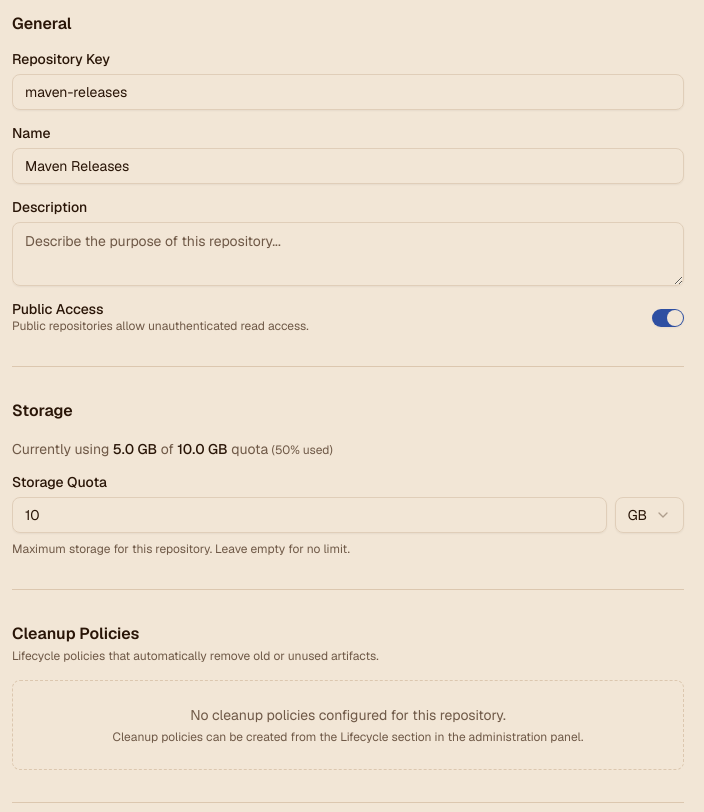
RepoSettingsTab - Empty description handling › detects changes when adding description to repo with no description
The image size is (704, 812).
Check: the text "You have unsaved changes" is not shown
Type "New description" into the text box labelled "Description" at (348, 254), box [12,222,684,286]
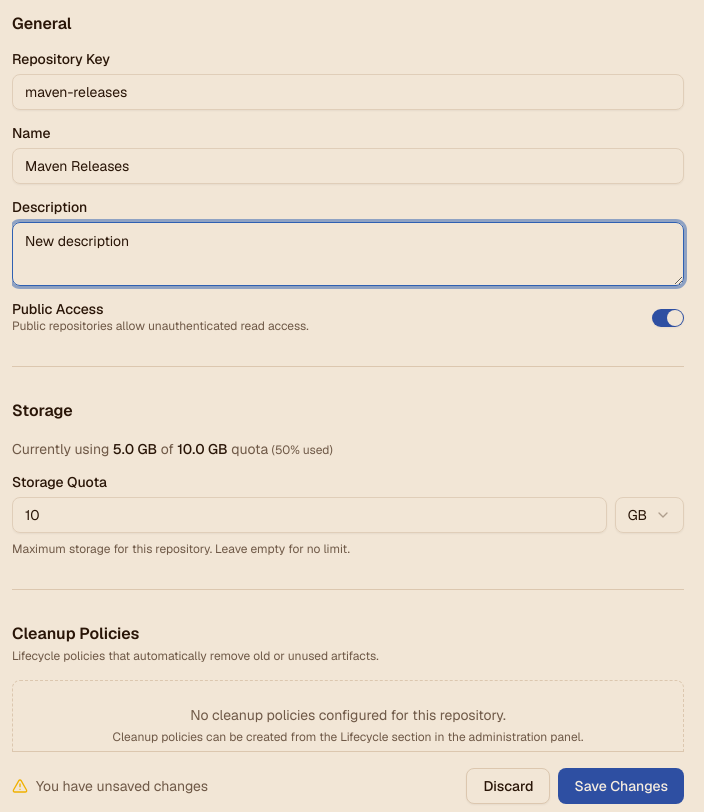
Check: the text "You have unsaved changes" is shown, box [36,776,208,796]
